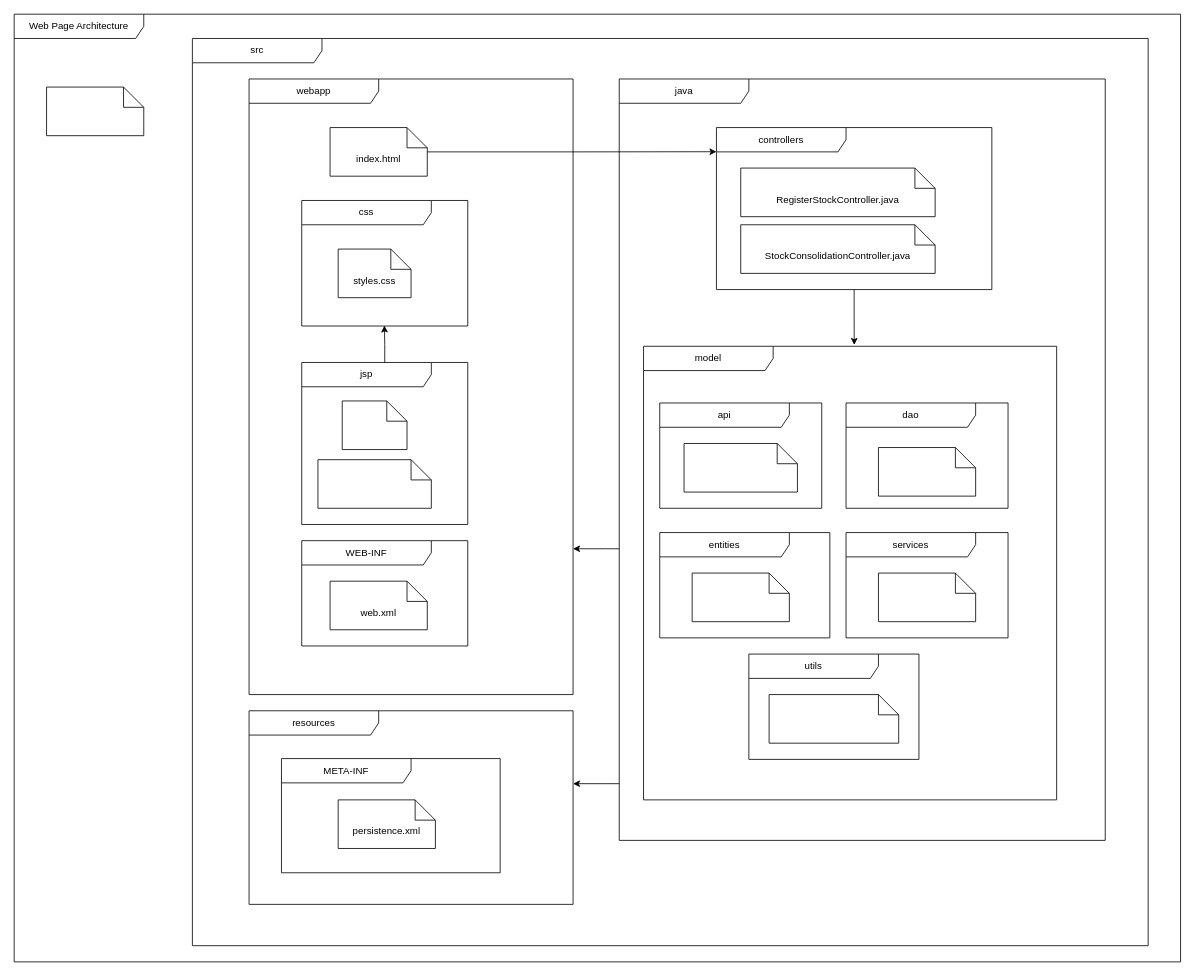
Image size: 1195x976. Some labels were removed from this diagram. The centre of each missing label's shape, as x and y in pixels:
"AlphaVantageAPI.java" goes at point (740, 467).
"home.jsp" goes at point (374, 425).
"pom.xml" goes at point (95, 111).
"Stock.java" goes at point (740, 597).
"stockConsolidation.jsp" goes at point (374, 483).
"StockDAO.java" goes at point (927, 471).
"StockPDFGenerator.java" goes at point (833, 718).
"StockService.java" goes at point (927, 597).
